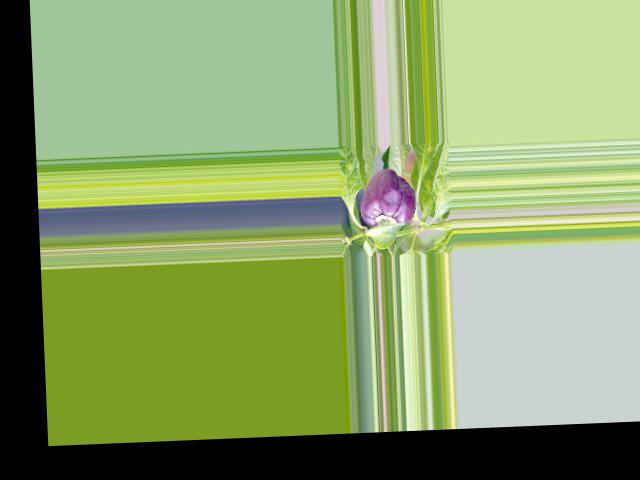bell_pepper: (359, 165, 418, 234)
